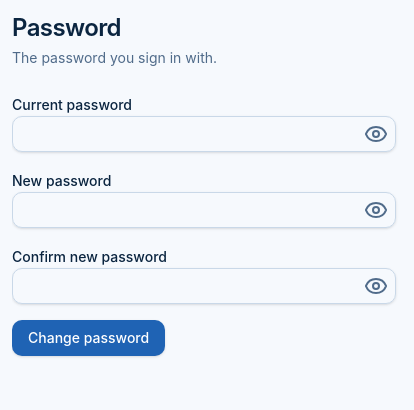
Scenario: UserPasswordPage › shows a refusal on the page
Type "bad" into the password field labelled "Current password" at (204, 134), box 12,116 -> 396,152
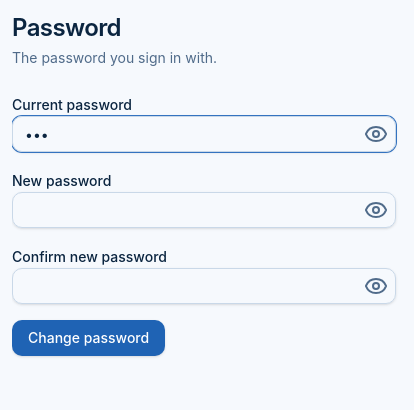
Type "new-pass" into the password field labelled "New password" at (204, 210), box 12,192 -> 396,228
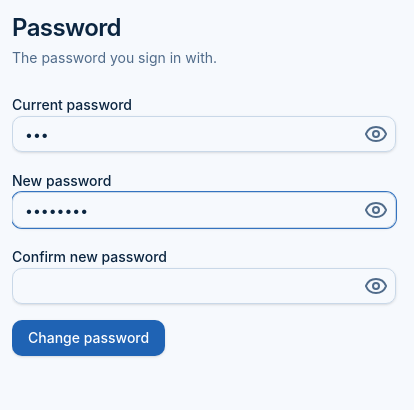
Type "new-pass" into the password field labelled "Confirm new password" at (204, 286), box 12,268 -> 396,304
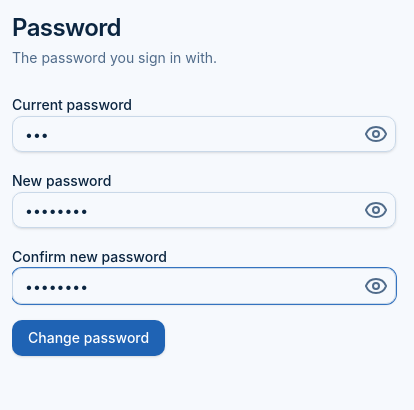
Click the button "Change password" at (89, 338), box 12,320 -> 165,356
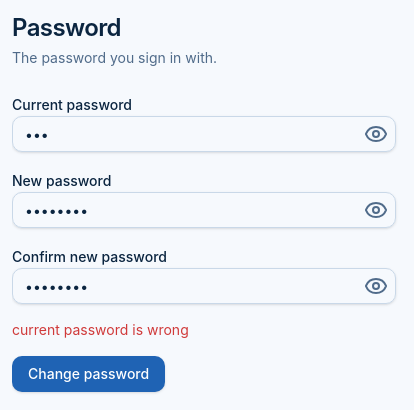
expect the message reads "current password is wrong": met, box 12,321 -> 189,338
